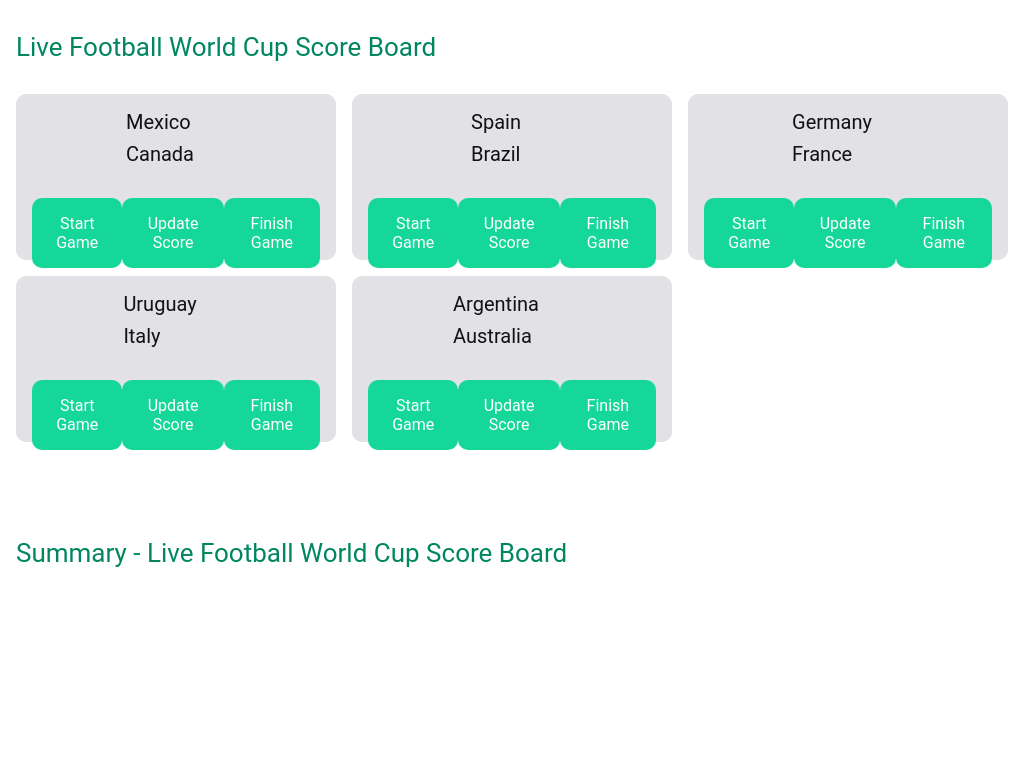
App Component › start the game when click on "Start Game"
What coordinates should you click on to do the following:
click the button with test id "start-game-1"
I would click on:
 (77, 233)
Its box is [32,198,122,268].
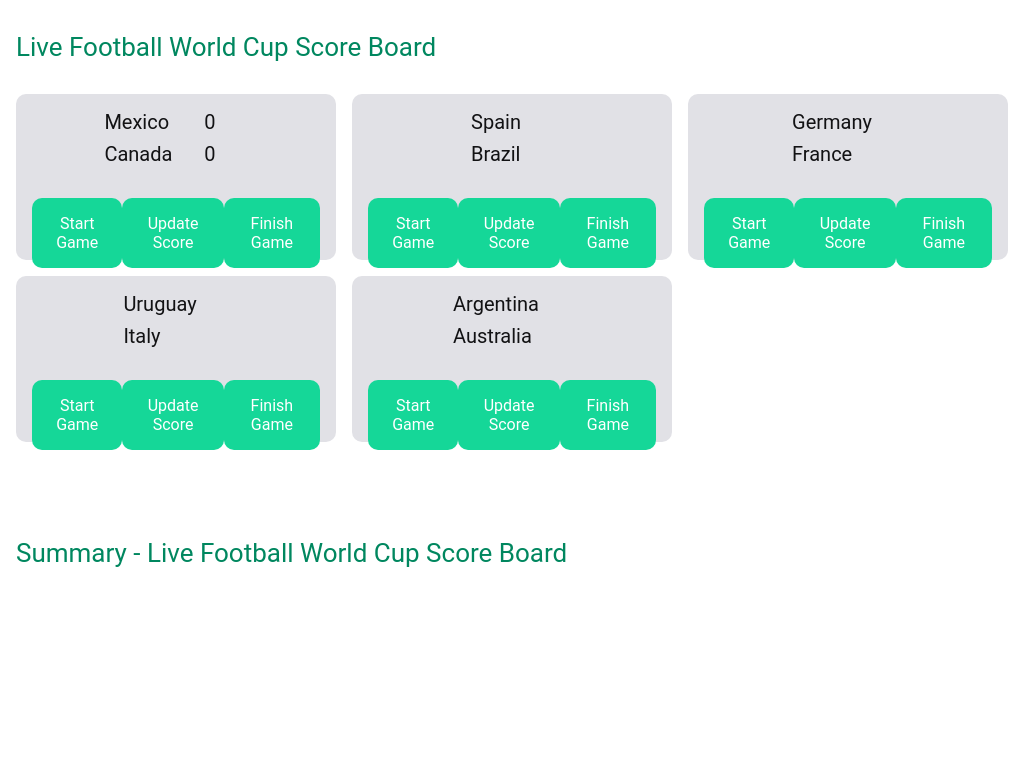
Result: the element with test id "score-board-1" is shown at [204,110,216,166]
Result: the text with test id "home-team-score-Mexico" reads "0" at [204,110,216,134]
Result: the text with test id "away-team-score-Canada" reads "0" at [204,142,216,166]
